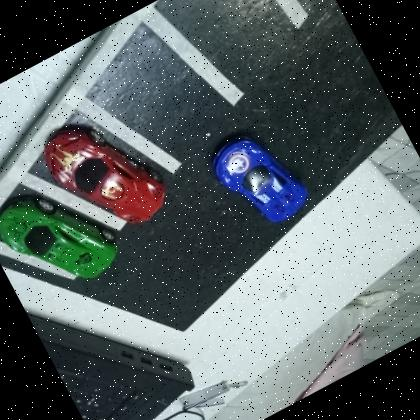Car: (42, 125, 166, 222), (0, 196, 117, 278), (211, 134, 308, 221)
